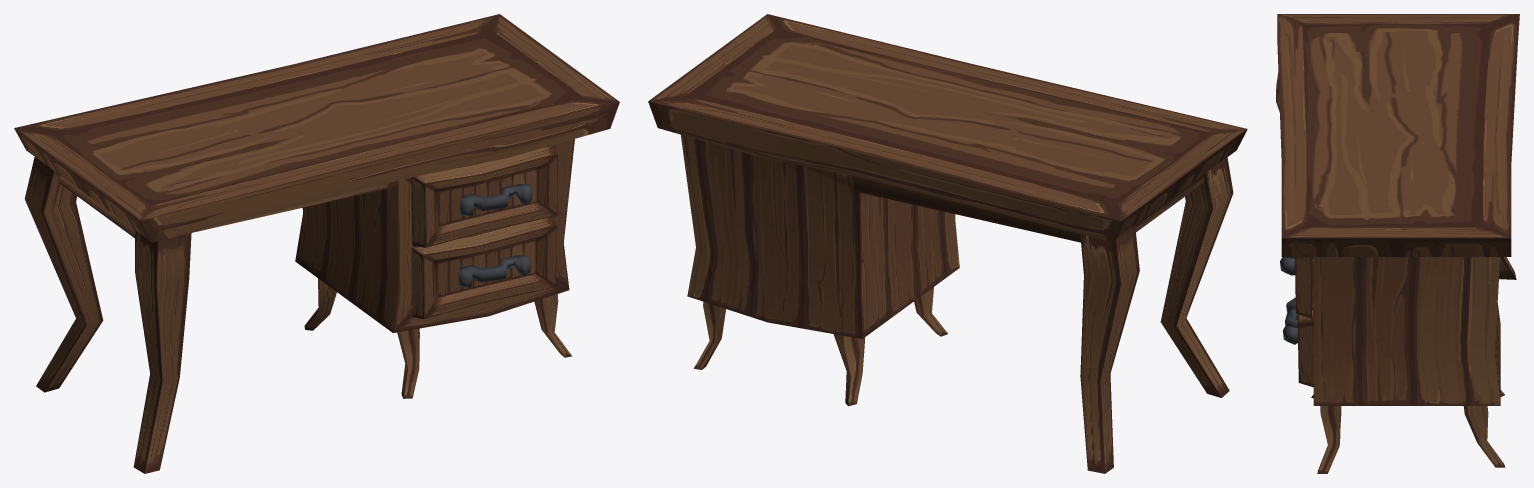
File: SM_PROP_desk_interior_01.fbx
The picture shows the model from 3 angles, left to right: view 1: azimuth 30°, elevation 25°; view 2: azimuth 150°, elevation 25°; view 3: azimuth 270°, elevation 25°; orthographic projection. The views are drawn at different scales.
Parts seen in each view (by area): view 1: SM_PROP_desk_interior_01, SM_PROP_desk_drawer_01_interior_01, SM_PROP_desk_drawer_02_interior_01; view 2: SM_PROP_desk_interior_01; view 3: SM_PROP_desk_interior_01, SM_PROP_desk_drawer_02_interior_01, SM_PROP_desk_drawer_01_interior_01.
Boxes of the visible parts, box(x1,y1,x2,y2) form: SM_PROP_desk_interior_01: box(14, 14, 619, 473); SM_PROP_desk_drawer_01_interior_01: box(411, 144, 557, 247); SM_PROP_desk_drawer_02_interior_01: box(411, 216, 556, 318); SM_PROP_desk_interior_01: box(648, 14, 1247, 473); SM_PROP_desk_interior_01: box(1276, 14, 1519, 473); SM_PROP_desk_drawer_02_interior_01: box(1283, 297, 1313, 387); SM_PROP_desk_drawer_01_interior_01: box(1280, 257, 1313, 318).
Size of the model in its own units: 174 by 90.09 by 79.93.
